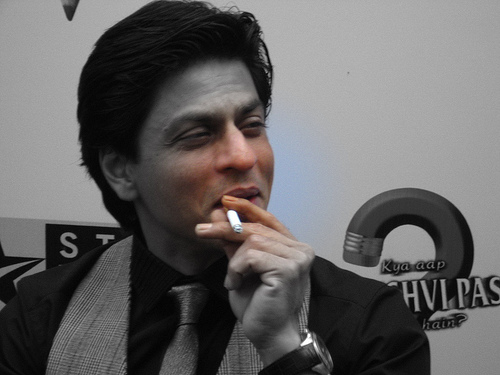cigarette: (222, 200, 245, 234)
